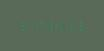eight: (47, 20, 56, 31)
five: (67, 20, 76, 31)
four: (27, 20, 36, 31)
seven: (37, 20, 46, 31)
three: (17, 20, 26, 31), (77, 20, 86, 31)
zero: (57, 20, 66, 31)
